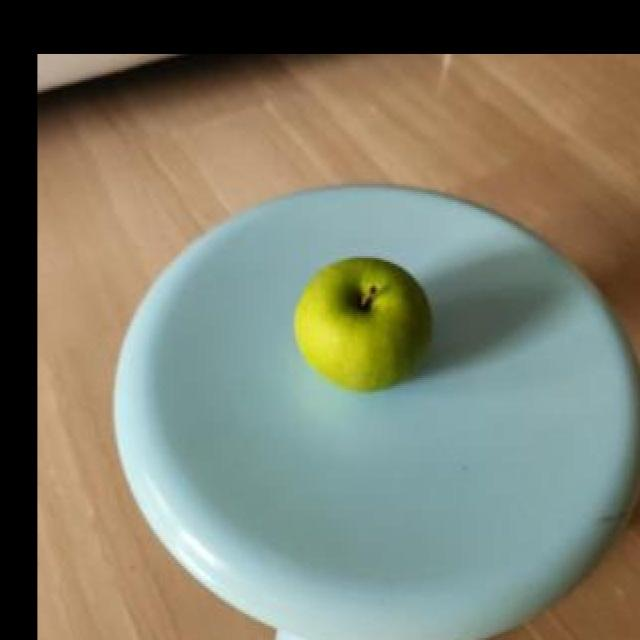green apple: (292, 254, 431, 385)
